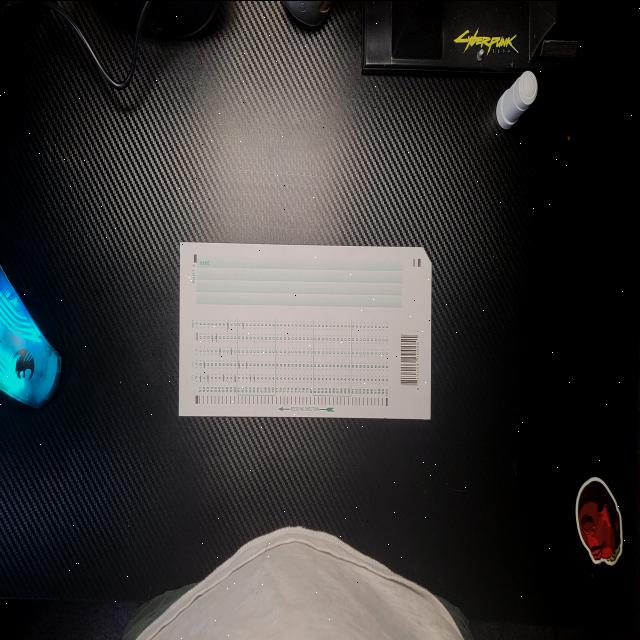scantron_back: (178, 241, 432, 419)
